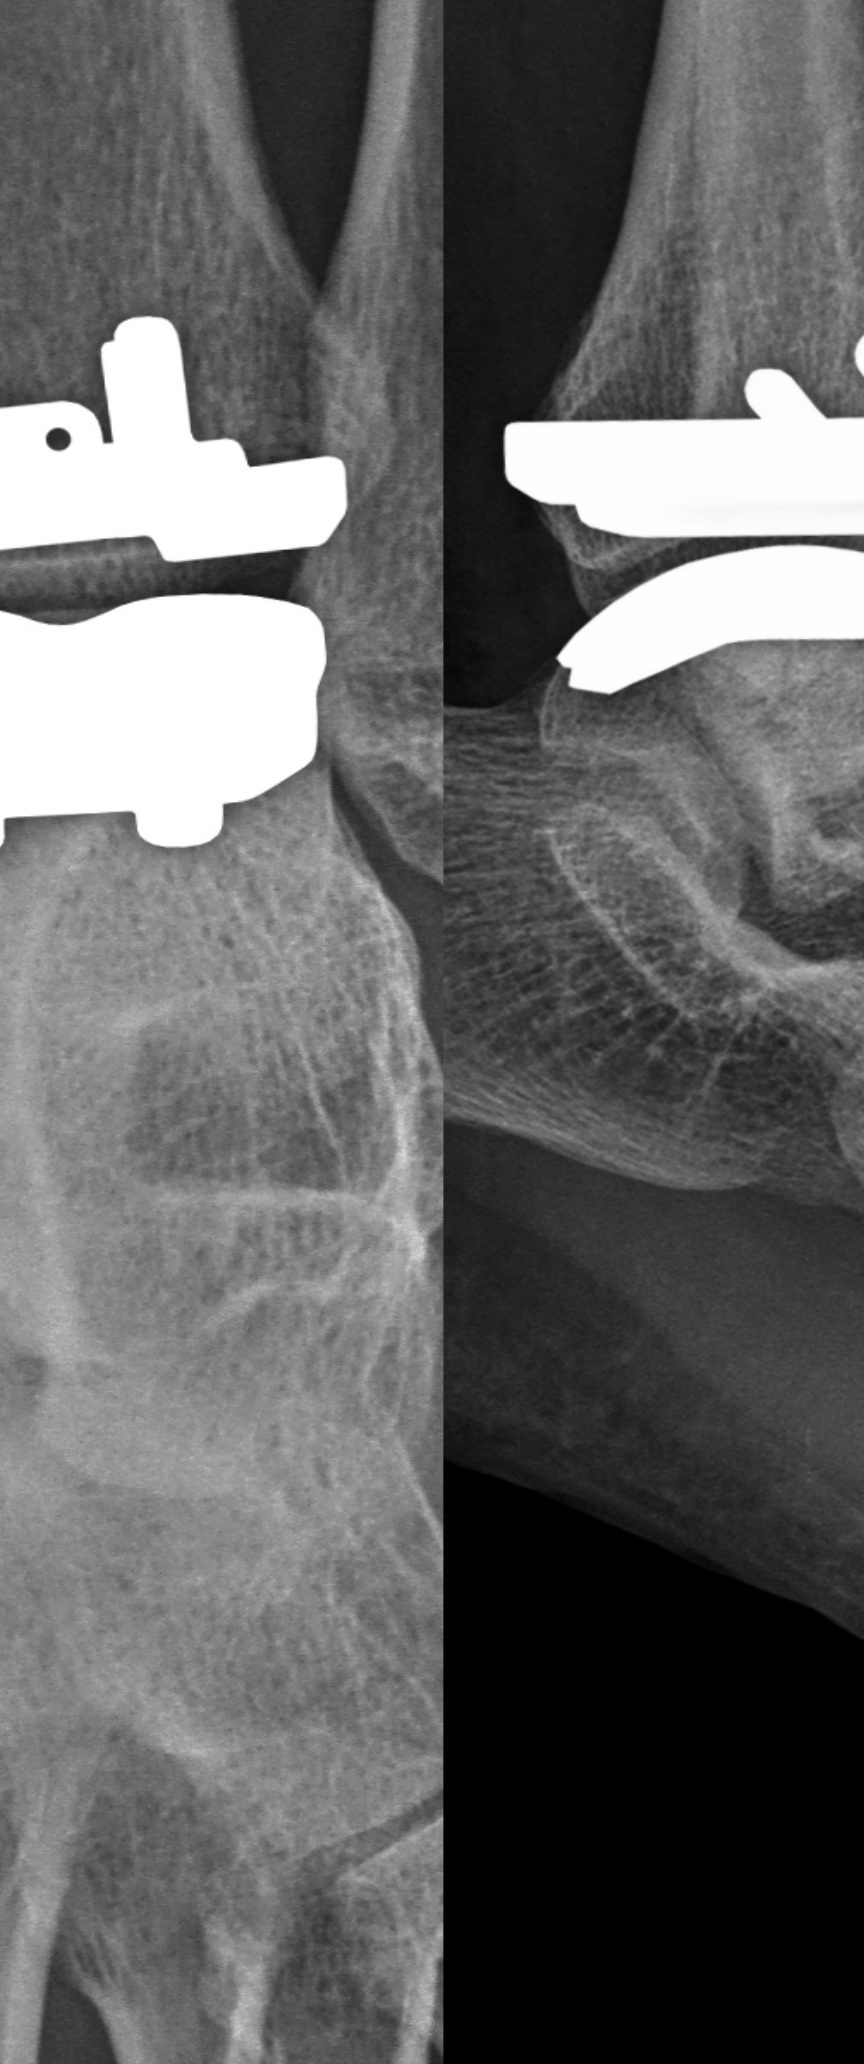Cadence-Integra: (3, 279, 370, 924), (481, 321, 864, 725)
